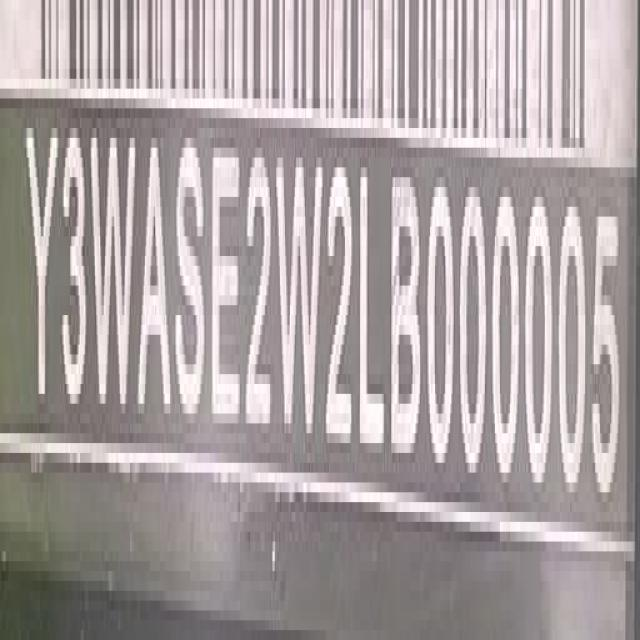0: (489, 157, 524, 514), (422, 157, 458, 463), (455, 153, 488, 485), (554, 197, 588, 500), (522, 182, 552, 492)
2: (244, 142, 273, 434), (325, 157, 354, 441)
3: (63, 110, 88, 438)
5: (590, 190, 623, 507)
A: (136, 120, 172, 420)
B: (390, 138, 424, 478)
E: (210, 131, 242, 445)
L: (359, 135, 387, 452)
S: (174, 116, 208, 448)
W: (274, 128, 324, 452), (90, 116, 138, 438)
Y: (26, 106, 59, 448)
